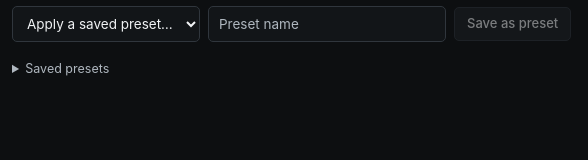
Test: Fine-tune movement › saves the tuning as a preset and applies a saved one
This screenshot has width=588, height=160.
Select "Soft hair" in the dropdown named "Apply a saved physics preset" at point(106, 24), box [12,6,200,42]
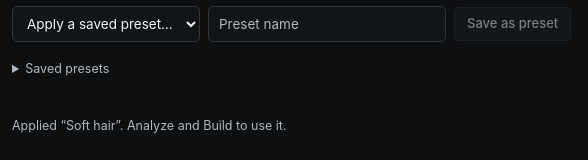
Type "Mine" into the field labelled "Preset name" at point(327, 24), box [208,6,446,42]
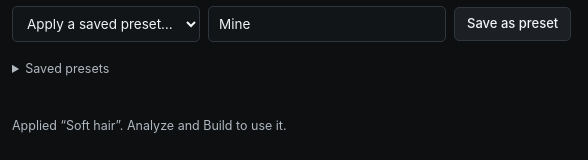
Click the button "Save as preset" at point(513, 24), box [454,7,571,41]
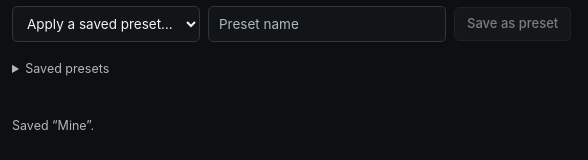
Expected: the text "Saved “Mine”." is shown, [12,118,94,133]
